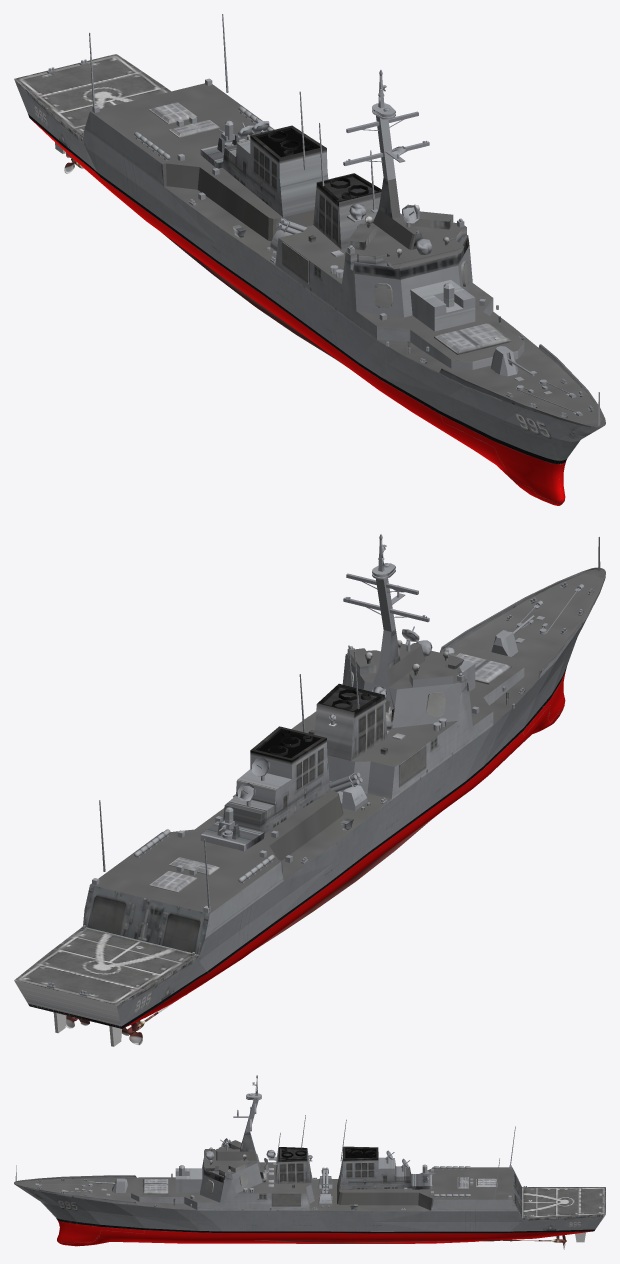
Rendered from player.glb.
3 renders of one model, top to bottom at view 1: azimuth 30°, elevation 25°; view 2: azimuth 150°, elevation 25°; view 3: azimuth 270°, elevation 25°, orthographic. The views are drawn at different scales.
Parts seen in each view (by area): view 1: deck_hull tex_0.001, propMirror_prop tex_0, underHull_hull tex_0, deck_hull tex_0.002, prop_prop tex_0, Cube, deck_hull tex_0.007, draft_hull tex_0, deck_hull tex_0.004, propMirror_prop tex_0.001, deck_hull tex_0.006, deck_hull tex_0.003 (+1 smaller); view 2: deck_hull tex_0.001, propMirror_prop tex_0, deck_hull tex_0.002, deck_hull tex_0.005, underHull_hull tex_0, prop_prop tex_0, draft_hull tex_0, deck_hull tex_0.009, propMirror_prop tex_0.001, propMirror_prop tex_0.003; view 3: deck_hull tex_0.001, propMirror_prop tex_0, underHull_hull tex_0, deck_hull tex_0.002, prop_prop tex_0, draft_hull tex_0, Cube, deck_hull tex_0.004, propMirror_prop tex_0.001, deck_hull tex_0.005.
Boxes of the visible parts, bbox=[...] form: deck_hull tex_0.001: bbox=[15, 80, 605, 460]; propMirror_prop tex_0: bbox=[47, 59, 593, 417]; underHull_hull tex_0: bbox=[32, 120, 565, 505]; deck_hull tex_0.002: bbox=[14, 54, 170, 139]; prop_prop tex_0: bbox=[89, 14, 600, 425]; Cube: bbox=[410, 280, 475, 331]; deck_hull tex_0.007: bbox=[494, 400, 581, 449]; draft_hull tex_0: bbox=[28, 114, 566, 464]; deck_hull tex_0.004: bbox=[377, 298, 524, 369]; propMirror_prop tex_0.001: bbox=[434, 323, 511, 354]; deck_hull tex_0.006: bbox=[354, 235, 468, 279]; deck_hull tex_0.003: bbox=[376, 115, 395, 180]; deck_hull tex_0.001: bbox=[14, 567, 605, 1026]; propMirror_prop tex_0: bbox=[47, 540, 593, 1046]; deck_hull tex_0.002: bbox=[14, 927, 198, 1005]; deck_hull tex_0.005: bbox=[83, 885, 209, 954]; underHull_hull tex_0: bbox=[123, 671, 565, 1028]; prop_prop tex_0: bbox=[99, 534, 600, 911]; draft_hull tex_0: bbox=[28, 666, 566, 1028]; deck_hull tex_0.009: bbox=[116, 988, 160, 1026]; propMirror_prop tex_0.001: bbox=[454, 653, 511, 684]; propMirror_prop tex_0.003: bbox=[257, 730, 318, 758]; deck_hull tex_0.001: bbox=[14, 1131, 605, 1231]; propMirror_prop tex_0: bbox=[37, 1078, 604, 1249]; underHull_hull tex_0: bbox=[57, 1220, 592, 1246]; deck_hull tex_0.002: bbox=[522, 1187, 605, 1218]; prop_prop tex_0: bbox=[15, 1075, 515, 1199]; draft_hull tex_0: bbox=[56, 1218, 595, 1233]; Cube: bbox=[175, 1168, 202, 1192]; deck_hull tex_0.004: bbox=[131, 1193, 197, 1209]; propMirror_prop tex_0.001: bbox=[142, 1179, 168, 1194]; deck_hull tex_0.005: bbox=[512, 1168, 521, 1217].
Size of the model in its own units: 16.36 by 37.99 by 120.
3 materials, 3 textured.
